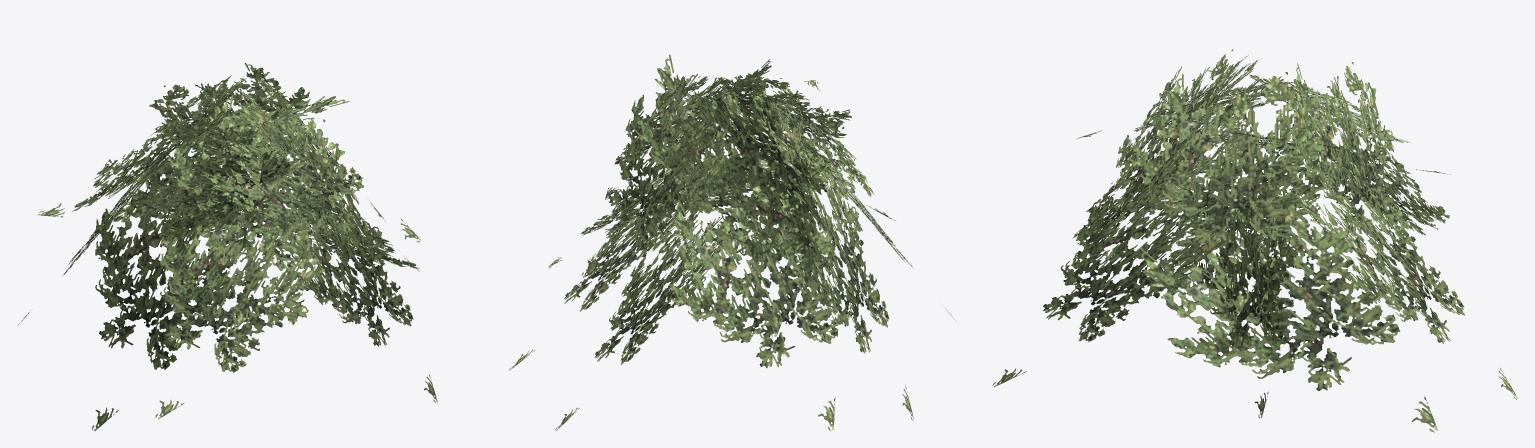
Rendered from tree_tamarix_top_a.dae.
The picture shows the model from 3 angles, left to right: view 1: azimuth 30°, elevation 25°; view 2: azimuth 150°, elevation 25°; view 3: azimuth 270°, elevation 25°; orthographic projection. The views are drawn at different scales.
Parts seen in each view (by area): view 1: tree_oak_top_a; view 2: tree_oak_top_a; view 3: tree_oak_top_a.
Boxes of the visible parts, x1,y1,x2,y2 form: tree_oak_top_a: (18,63,437,431); tree_oak_top_a: (508,54,956,430); tree_oak_top_a: (992,49,1518,432).
Bounding box in the file's own units: 10.23 × 12.13 × 9.68.
